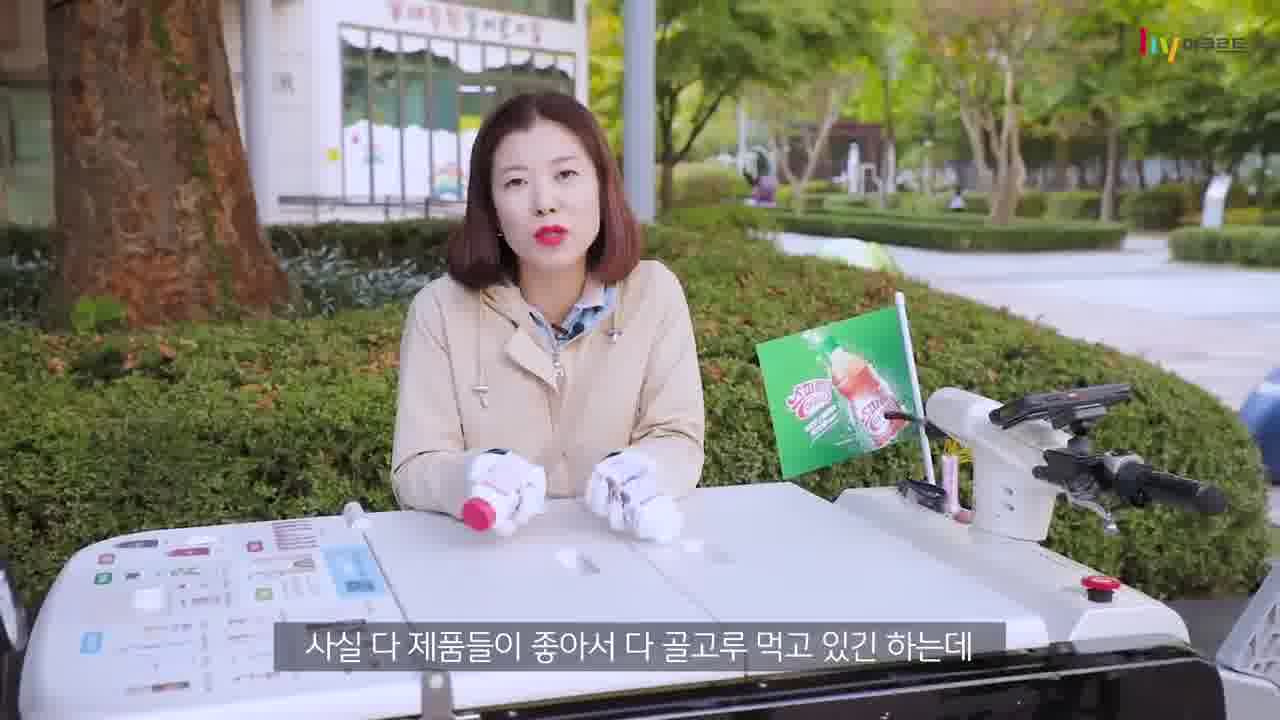Yakurut: (329, 68, 768, 550)
